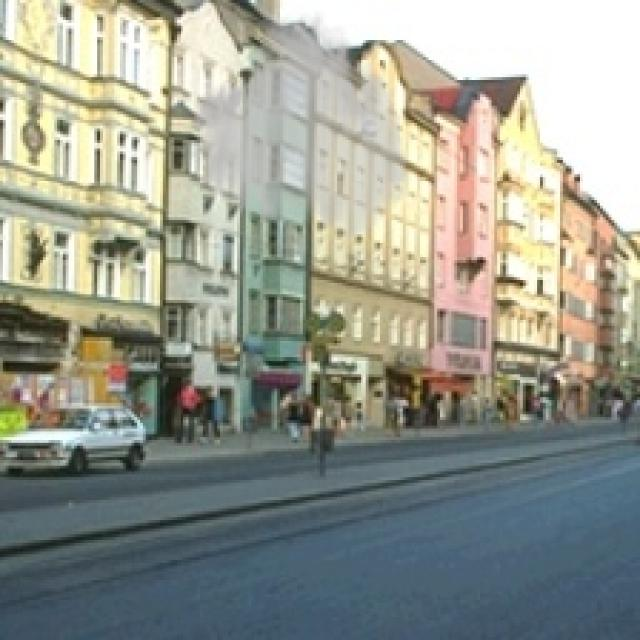smoke: (188, 3, 412, 243)
